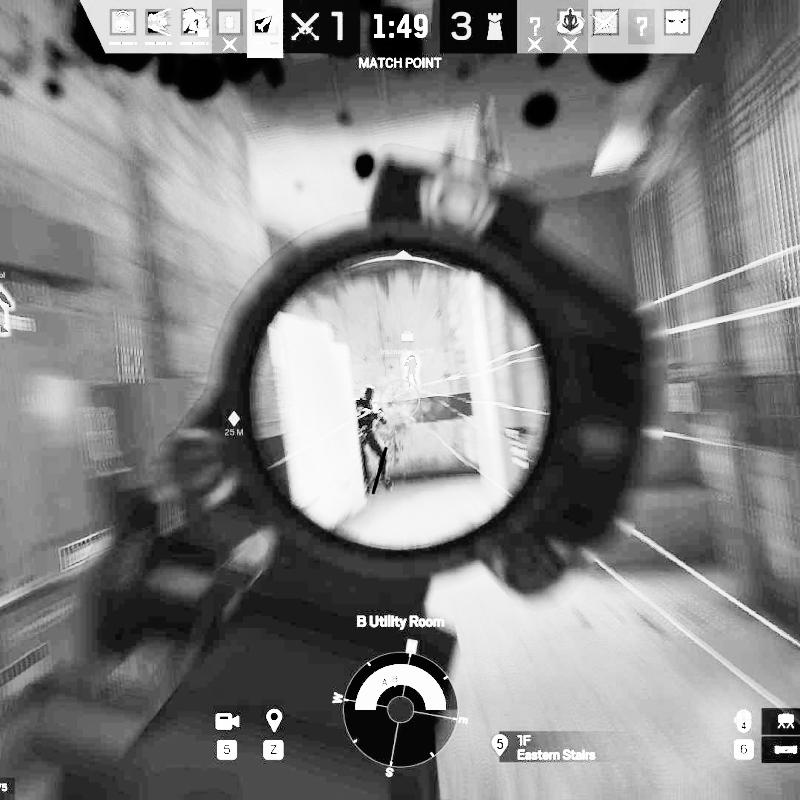Character: (353, 383, 396, 495)
Friend_label: (378, 329, 437, 356)
Head: (361, 385, 375, 402)
